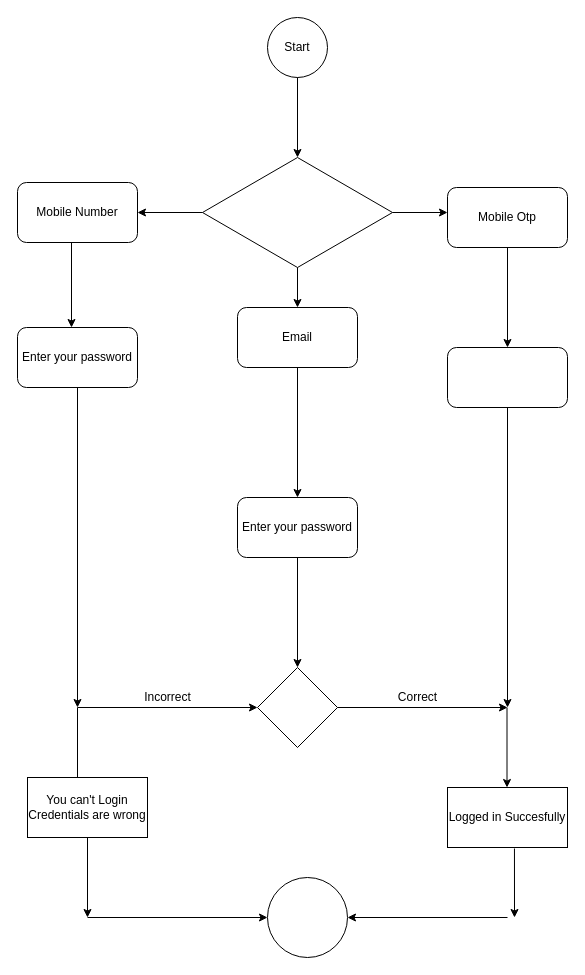
Image size: 585x975. Some labels were removed from this diagram. Each missing label, with the box of its shape:
Check Details: (256, 666, 338, 748)
End: (266, 876, 348, 958)
Enter OTP: (446, 346, 568, 408)
You Want to Login using ?: (202, 156, 392, 268)
